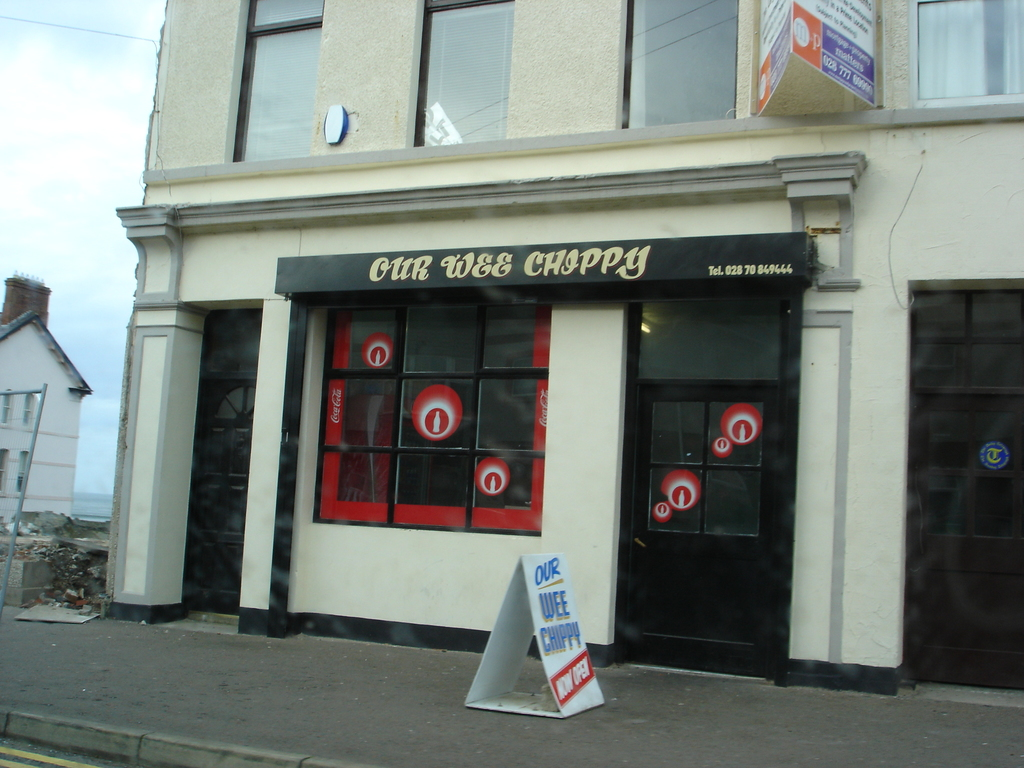door: (922, 354, 1017, 669), (648, 389, 765, 644), (211, 323, 244, 602)
